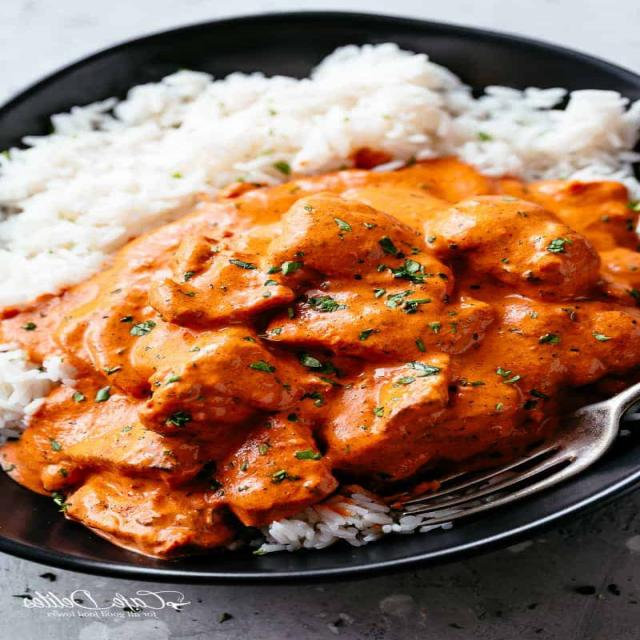Butter Chicken: (0, 146, 634, 555)
